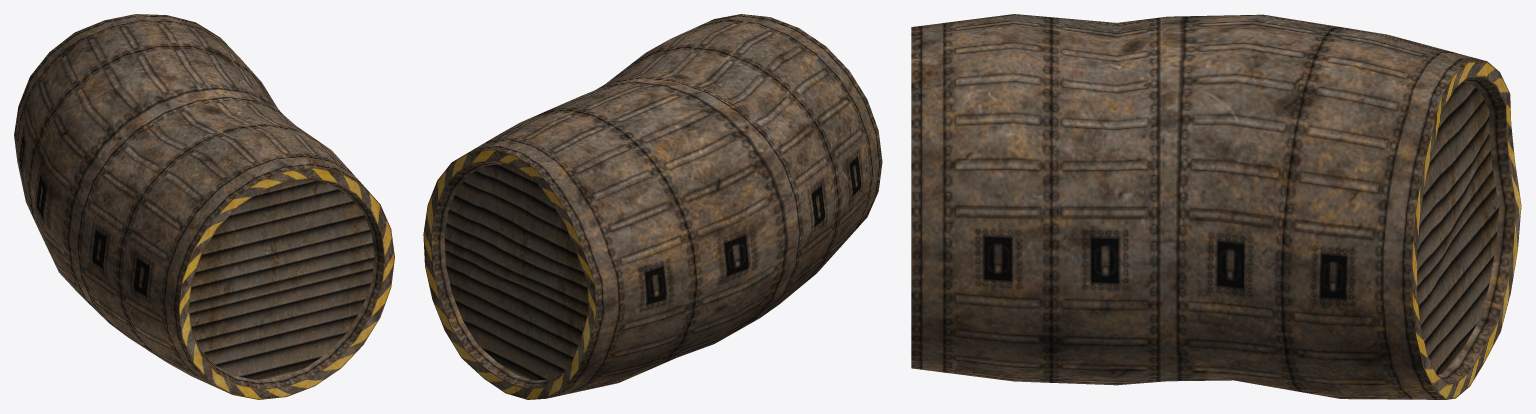
The model's file is barrel2.fbx.
3 renders of one model, left to right at view 1: azimuth 30°, elevation 25°; view 2: azimuth 150°, elevation 25°; view 3: azimuth 270°, elevation 25°, orthographic. The views are drawn at different scales.
Visible parts, largest first — view 1: Mesh; view 2: Mesh; view 3: Mesh.
Boxes of the visible parts, x1,y1,x2,y2 form: Mesh: (14, 14, 394, 399); Mesh: (423, 14, 882, 399); Mesh: (911, 14, 1521, 399).
Size of the model in its own units: 86.4 by 76 by 123.
